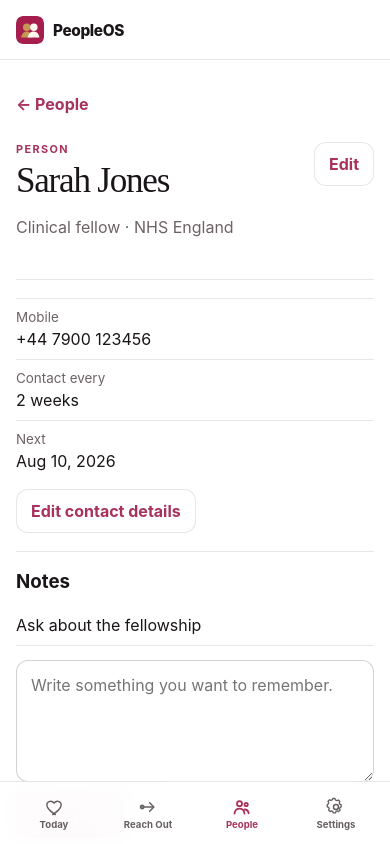
it: simple Profile and Person lifecycle UI › archives and restores only the Person while every child record remains unchanged
Click the button "Edit" at (344,164), box [314, 142, 374, 186]
(page scrolled)
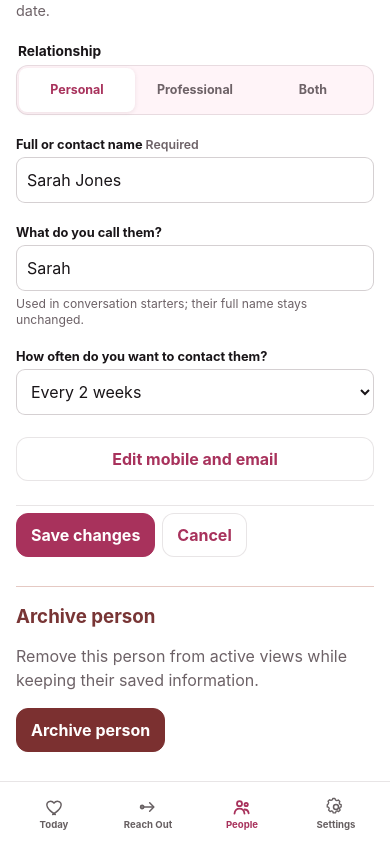
Click the button "Archive person" at (91,730), box [16, 708, 165, 752]
(page scrolled)
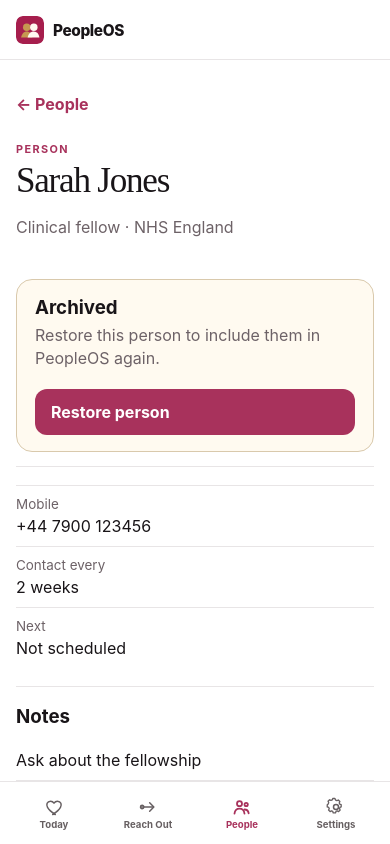
Expected: the heading "Sarah Jones" is shown, [16, 161, 169, 200]
Expected: the heading "Archived" is shown, [35, 296, 118, 319]
Click the button "Restore person" at (110,412), box [35, 388, 355, 434]
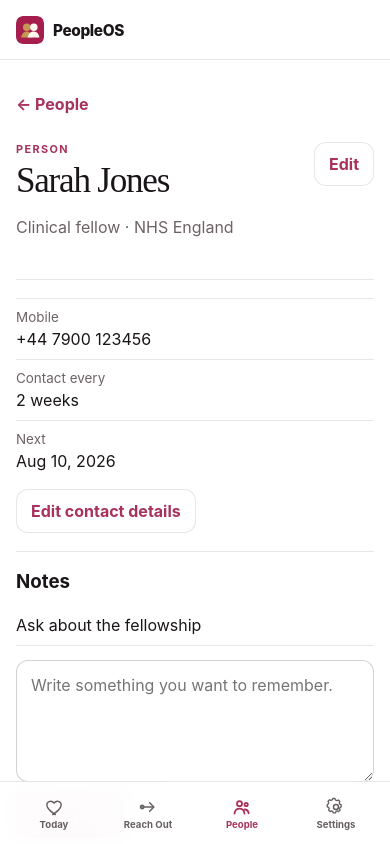
Expected: the button "Edit" is shown, [314, 142, 374, 186]
